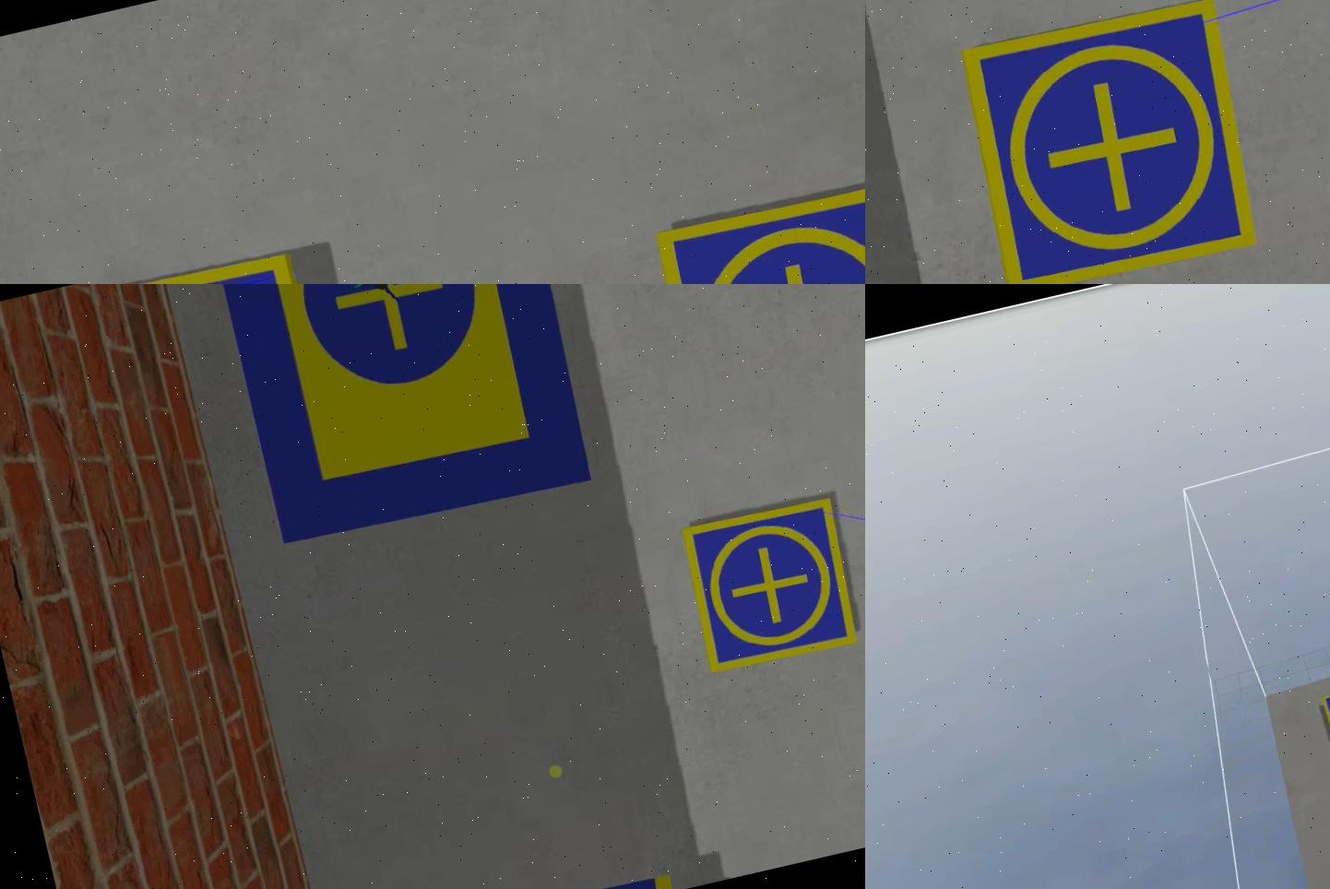large_base: (214, 284, 598, 553)
small_base: (950, 1, 1266, 284), (675, 495, 864, 680), (648, 172, 864, 284)
